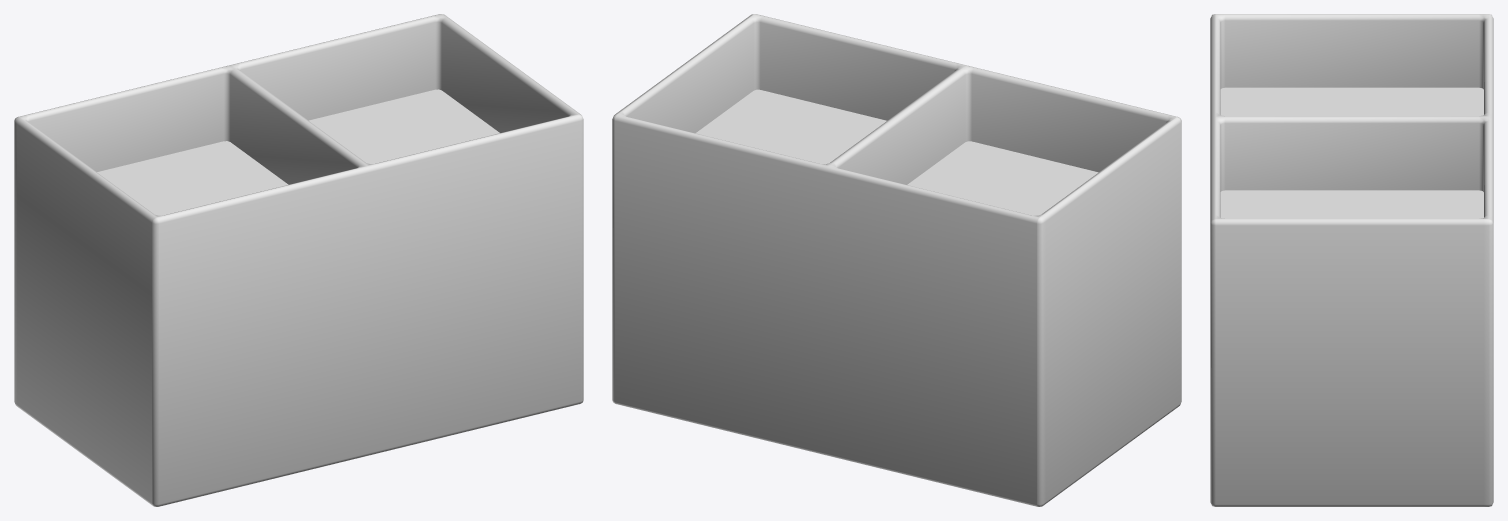
File: chest_freezer.fbx
3 views of the same model, side by side, from view 1: azimuth 30°, elevation 25°; view 2: azimuth 150°, elevation 25°; view 3: azimuth 270°, elevation 25° (orthographic).
Parts seen in each view (by area): view 1: chest freezer; view 2: chest freezer; view 3: chest freezer.
Boxes of the visible parts, x1,y1,x2,y2 form: chest freezer: (14,14,583,506); chest freezer: (612,14,1181,506); chest freezer: (1210,14,1493,506).
Size of the model in its own units: 357 by 229 by 205.
Materials: 1 (1 with a texture image).
